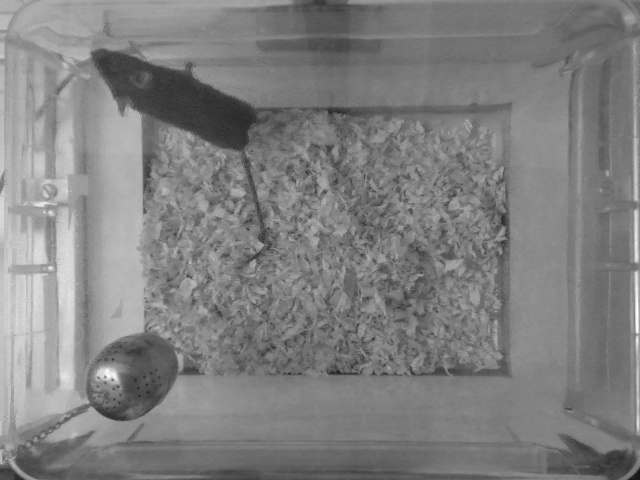mice: (85, 44, 272, 264)
